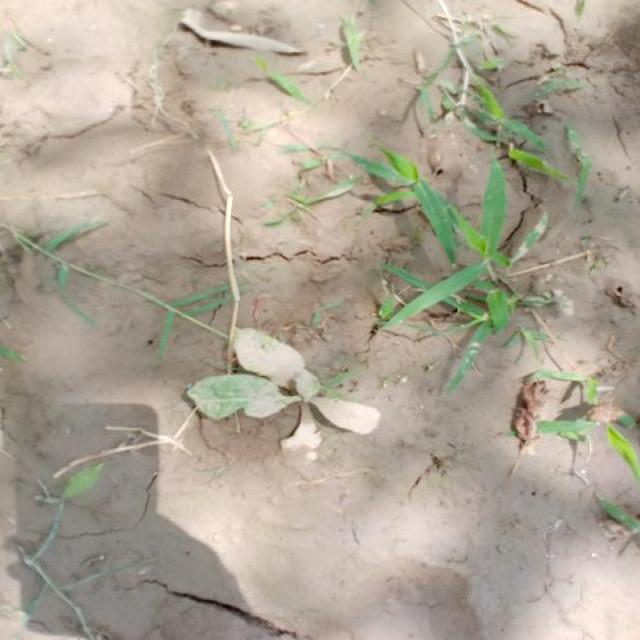crop: (198, 338, 385, 466)
